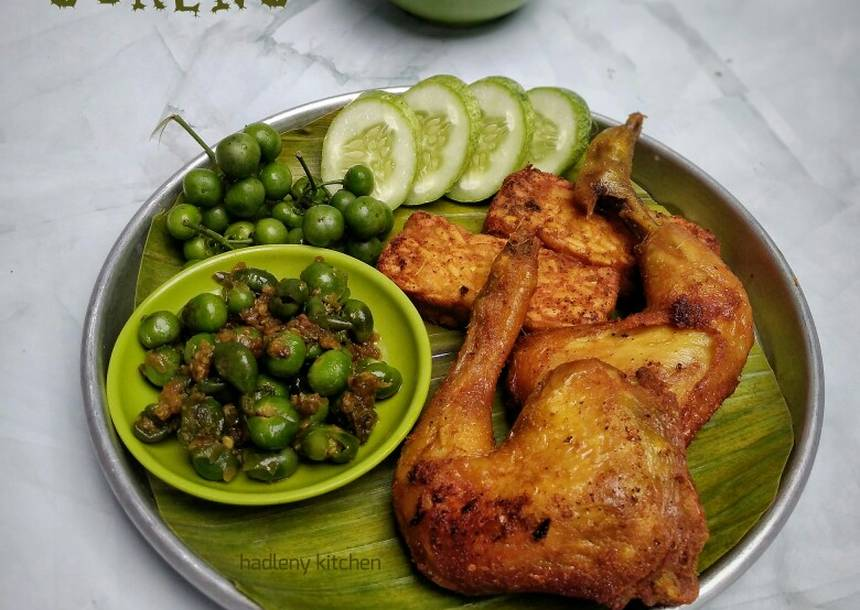Ayam: (387, 314, 686, 588), (485, 165, 760, 418)
